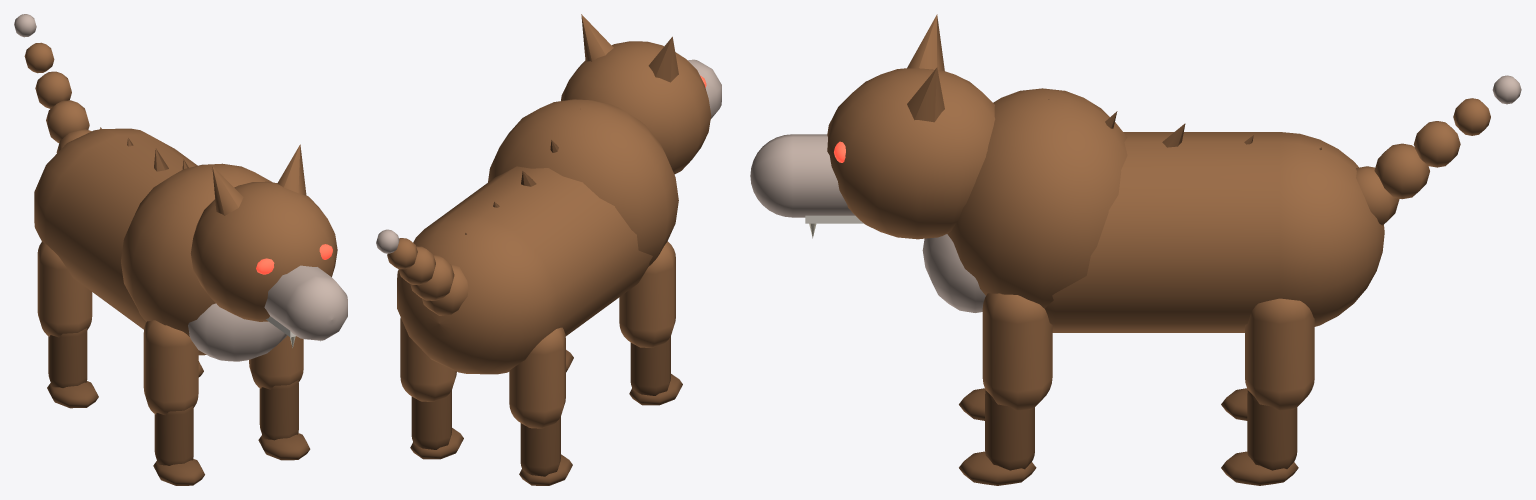
File: mob_beast.glb
3 views of the same model, side by side, from view 1: azimuth 30°, elevation 25°; view 2: azimuth 150°, elevation 25°; view 3: azimuth 270°, elevation 25° (orthographic). The views are drawn at different scales.
Visible parts, largest first — view 1: mob_body__m17_ow100_, mob_body__m4_ow100_, mob_body_light35__m1_ow100_, mob_body__m7_ow100_, mob_body__m11_ow100_, mob_body_light35__m0_ow100_, mob_body__m16_ow100_, mob_body_dark55__m10_ow100_, mob_body_dark55__m12_ow100_, mob_body_dark55__m8_ow100_, mob_body__m9_ow100_, mob_body_light35__m15_ow100_ (+1 smaller); view 2: mob_body__m17_ow100_, mob_body__m4_ow100_, mob_body__m11_ow100_, mob_body__m7_ow100_, mob_body__m16_ow100_, mob_body_dark55__m14_ow100_, mob_body_dark55__m8_ow100_, mob_body_dark55__m12_ow100_, mob_body__m13_ow100_, mob_body_light35__m1_ow100_, mob_body_light35__m15_ow100_; view 3: mob_body__m17_ow100_, mob_body__m4_ow100_, mob_body__m9_ow100_, mob_body__m13_ow100_, mob_body_light35__m1_ow100_, mob_body__m16_ow100_, mob_body_dark55__m14_ow100_, mob_body_dark55__m10_ow100_, mob_body_light35__m0_ow100_.
Boxes of the visible parts, left/top/right/bottom form: mob_body__m17_ow100_: left=34, top=128, right=271, bottom=355; mob_body__m4_ow100_: left=190, top=144, right=337, bottom=321; mob_body_light35__m1_ow100_: left=264, top=265, right=347, bottom=340; mob_body__m7_ow100_: left=143, top=320, right=198, bottom=415; mob_body__m11_ow100_: left=37, top=242, right=92, bottom=337; mob_body_light35__m0_ow100_: left=188, top=303, right=287, bottom=361; mob_body__m16_ow100_: left=24, top=42, right=91, bottom=152; mob_body_dark55__m10_ow100_: left=258, top=380, right=310, bottom=460; mob_body_dark55__m12_ow100_: left=47, top=328, right=98, bottom=408; mob_body_dark55__m8_ow100_: left=153, top=406, right=204, bottom=485; mob_body__m9_ow100_: left=249, top=335, right=303, bottom=389; mob_body_light35__m15_ow100_: left=14, top=14, right=36, bottom=37; mob_body__m17_ow100_: left=397, top=99, right=678, bottom=374; mob_body__m4_ow100_: left=561, top=14, right=711, bottom=174; mob_body__m11_ow100_: left=509, top=327, right=565, bottom=428; mob_body__m7_ow100_: left=619, top=241, right=675, bottom=347; mob_body__m16_ow100_: left=387, top=238, right=468, bottom=315; mob_body_dark55__m14_ow100_: left=410, top=390, right=463, bottom=459; mob_body_dark55__m8_ow100_: left=629, top=336, right=682, bottom=405; mob_body_dark55__m12_ow100_: left=519, top=416, right=572, bottom=485; mob_body__m13_ow100_: left=400, top=317, right=456, bottom=401; mob_body_light35__m1_ow100_: left=688, top=59, right=721, bottom=119; mob_body_light35__m15_ow100_: left=376, top=229, right=399, bottom=253; mob_body__m17_ow100_: left=947, top=88, right=1384, bottom=332; mob_body__m4_ow100_: left=827, top=14, right=995, bottom=239; mob_body__m9_ow100_: left=982, top=293, right=1052, bottom=410; mob_body__m13_ow100_: left=1245, top=298, right=1314, bottom=410; mob_body_light35__m1_ow100_: left=750, top=134, right=854, bottom=217; mob_body__m16_ow100_: left=1356, top=98, right=1490, bottom=225; mob_body_dark55__m14_ow100_: left=1221, top=390, right=1298, bottom=485; mob_body_dark55__m10_ow100_: left=959, top=390, right=1036, bottom=485; mob_body_light35__m0_ow100_: left=922, top=234, right=985, bottom=312.
Size of what is drawn, in the model's own units: 0.94 by 1.81 by 3.09.
